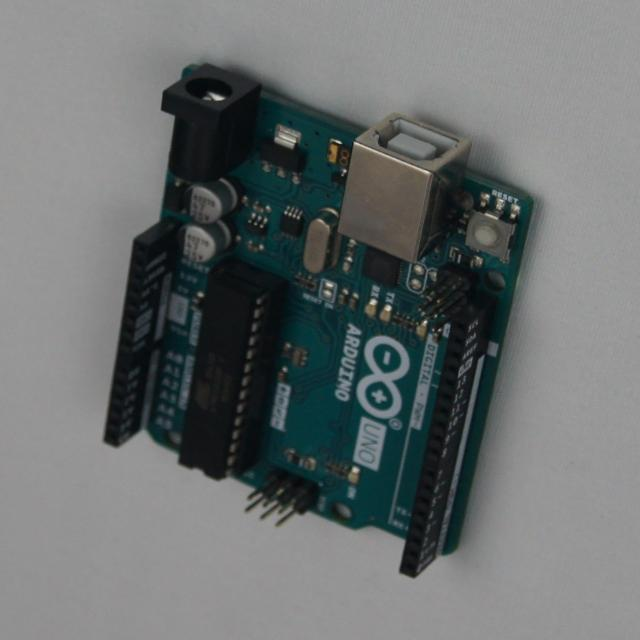Arduino Uno -Green-: (105, 64, 533, 578)
